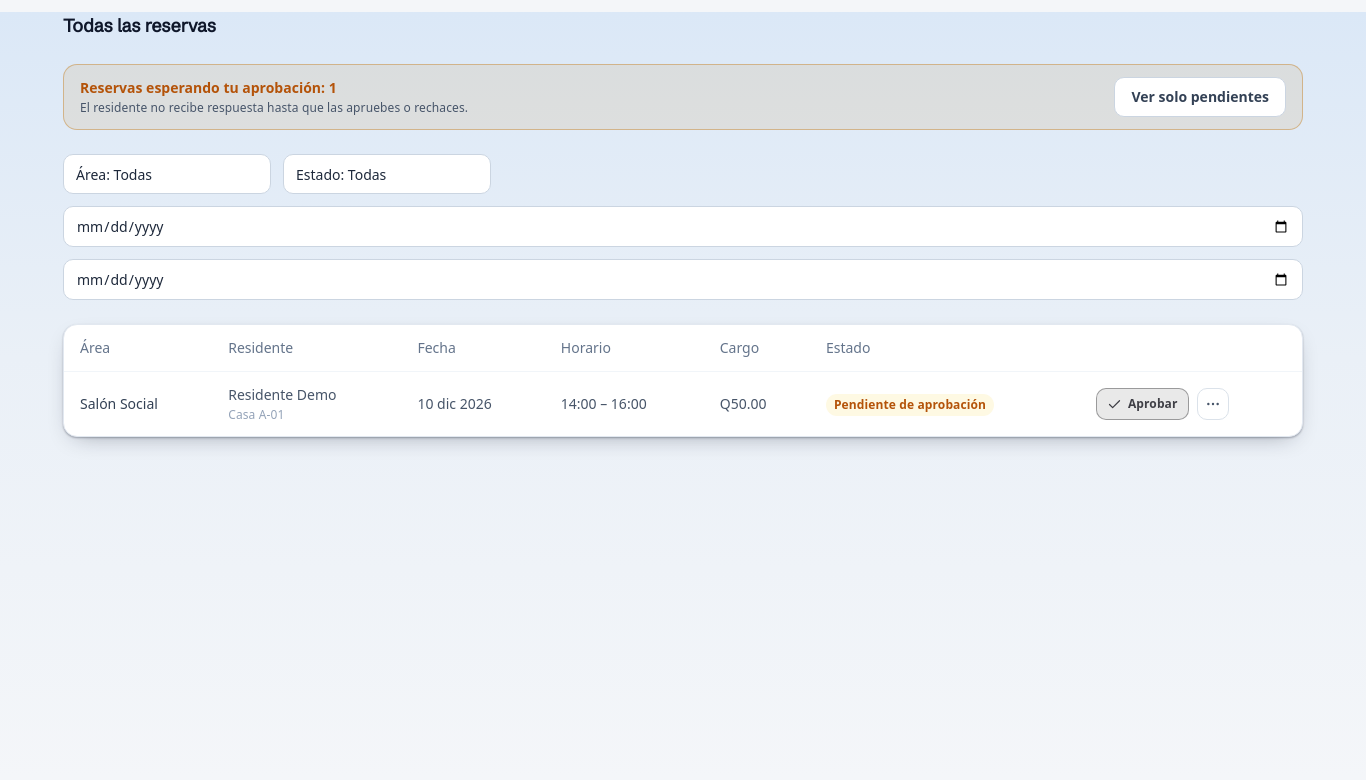
Test: AdminReservasPage › aprueba una reserva pendiente y recarga la lista
This screenshot has width=1366, height=780.
Click the button "Aprobar" at (1142, 404), box [1096, 388, 1189, 420]
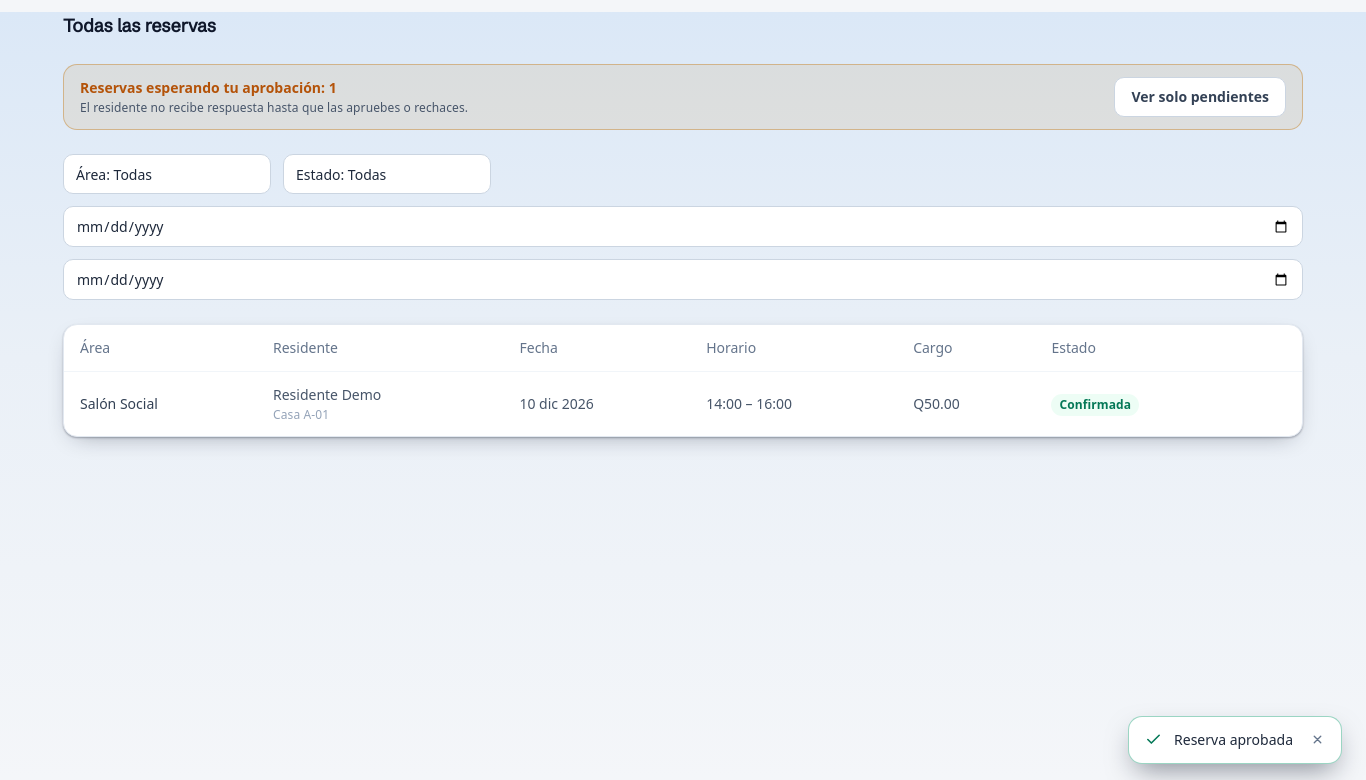
Now the text "Reserva aprobada" is shown, box [1174, 729, 1293, 751]
Now the text "Confirmada" is shown, box [1051, 394, 1139, 416]
